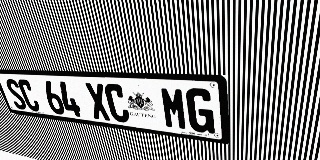4: (56, 81, 82, 117)
6: (40, 80, 67, 115)
C: (103, 84, 131, 123), (16, 79, 42, 112)
G: (185, 88, 215, 134)
M: (159, 86, 188, 131)
S: (4, 79, 28, 110)
X: (84, 83, 111, 121)
